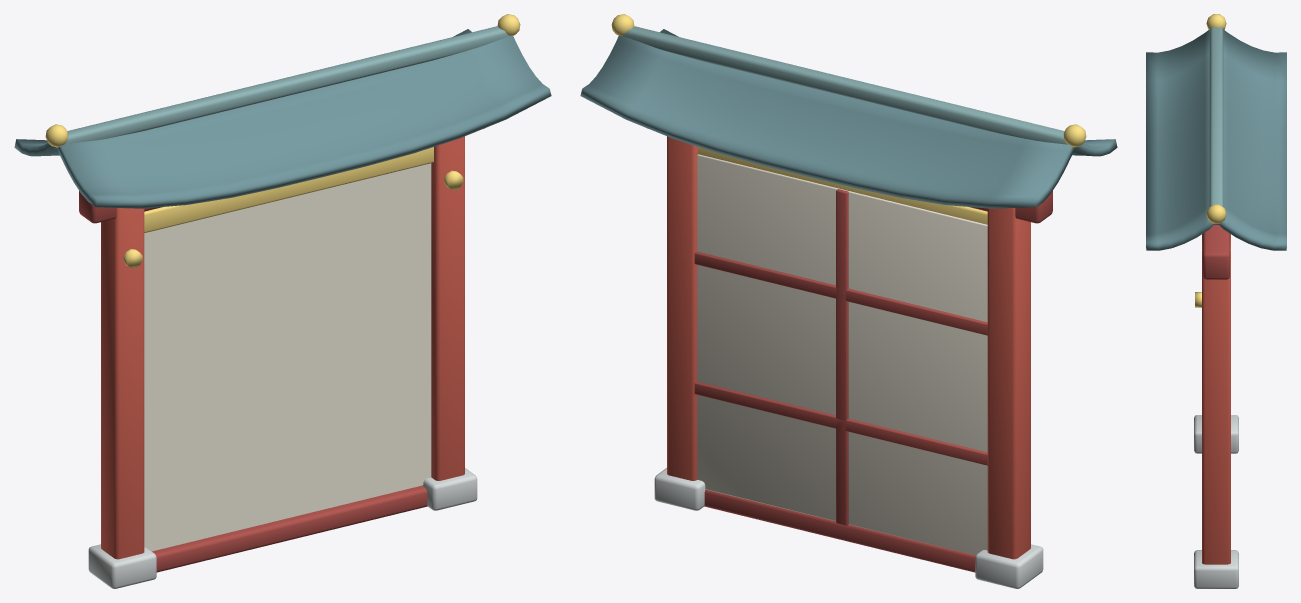
The model's file is picture_gate.glb.
3 renders of one model, left to right at view 1: azimuth 30°, elevation 25°; view 2: azimuth 150°, elevation 25°; view 3: azimuth 270°, elevation 25°, orthographic. The views are drawn at different scales.
Visible parts, largest first — view 1: Painting, Roof, Post, Post.001, Ridge, Sill, Trim, PostBase, PostBase.001; view 2: Back, Roof, Post, Post.001, Ridge, Sill, BackBar3, BackBar1, BackBar2, PostBase, Trim, PostBase.001; view 3: Roof, Post.001, Ridge, Lintel, PostBase.001, PostBase, Finial.001, Finial.
Part boxes in pixels (x1=…): Painting: x1=144, y1=163, x2=431, y2=551; Roof: x1=14, y1=29, x2=551, y2=208; Post: x1=101, y1=208, x2=144, y2=559; Post.001: x1=431, y1=136, x2=464, y2=480; Ridge: x1=56, y1=26, x2=509, y2=147; Sill: x1=152, y1=485, x2=427, y2=572; Trim: x1=144, y1=147, x2=433, y2=232; PostBase: x1=88, y1=544, x2=156, y2=588; PostBase.001: x1=422, y1=468, x2=477, y2=510; Back: x1=697, y1=154, x2=987, y2=555; Roof: x1=580, y1=29, x2=1117, y2=208; Post: x1=987, y1=208, x2=1030, y2=559; Post.001: x1=667, y1=136, x2=697, y2=480; Ridge: x1=622, y1=26, x2=1075, y2=147; Sill: x1=704, y1=489, x2=975, y2=572; BackBar3: x1=836, y1=189, x2=848, y2=525; BackBar1: x1=694, y1=381, x2=987, y2=465; BackBar2: x1=694, y1=251, x2=987, y2=335; PostBase: x1=975, y1=544, x2=1043, y2=588; Trim: x1=698, y1=147, x2=987, y2=224; PostBase.001: x1=654, y1=468, x2=705, y2=510; Roof: x1=1146, y1=30, x2=1286, y2=250; Post.001: x1=1202, y1=240, x2=1230, y2=564; Ridge: x1=1209, y1=27, x2=1223, y2=224; Lintel: x1=1203, y1=225, x2=1229, y2=279; PostBase.001: x1=1194, y1=550, x2=1238, y2=588; PostBase: x1=1194, y1=415, x2=1238, y2=453; Finial.001: x1=1206, y1=204, x2=1226, y2=223; Finial: x1=1206, y1=14, x2=1226, y2=30.
Bounding box in the file's own units: 4.17 × 3.95 × 1.25.
